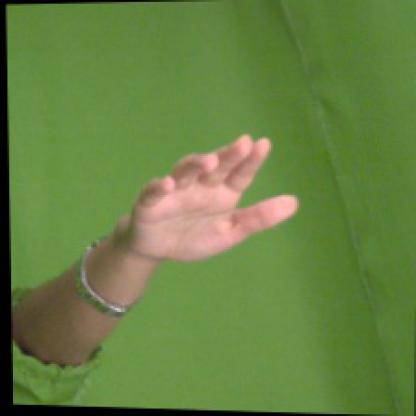Hand: (118, 134, 302, 264)
